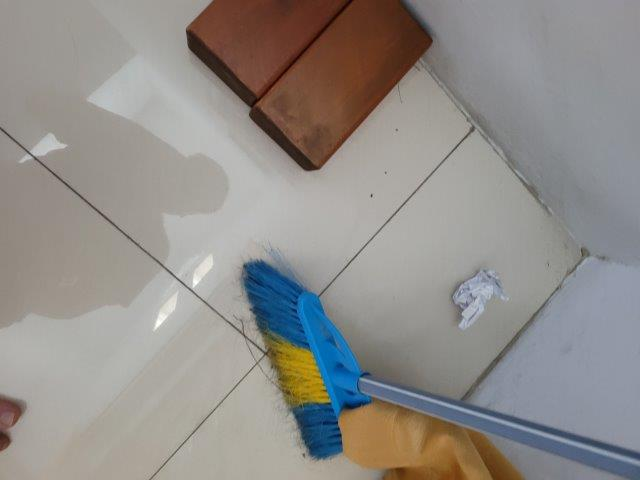kertas: (450, 272, 509, 330)
